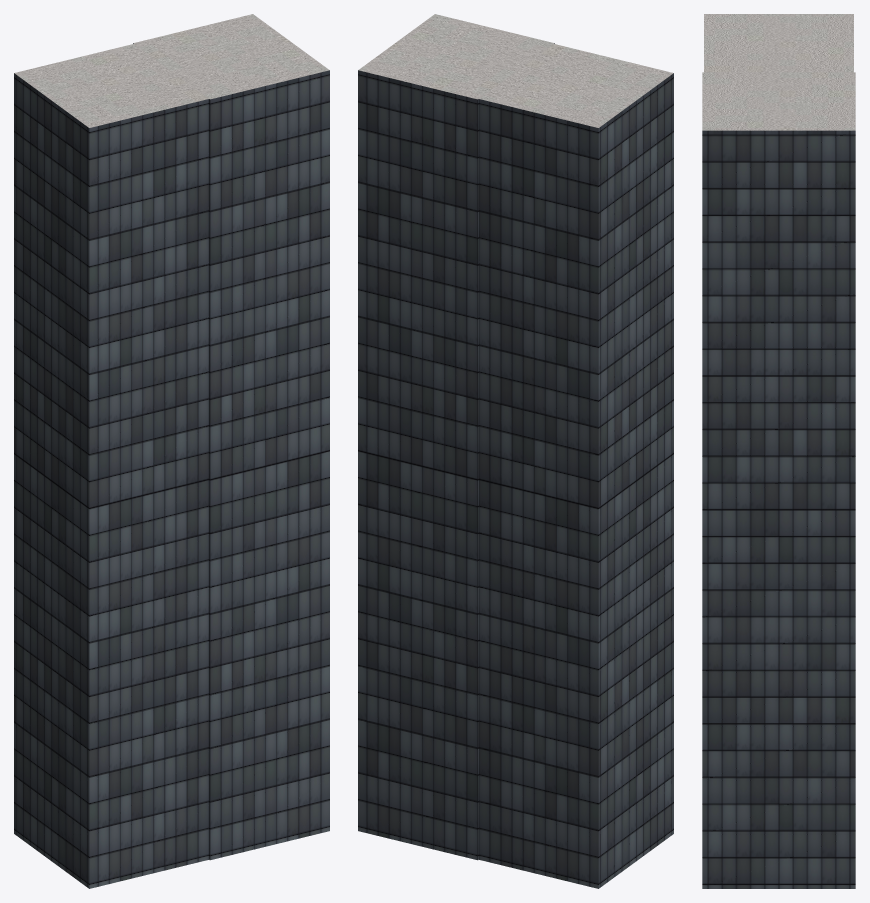
File: Building3.fbx
3 renders of one model, left to right at view 1: azimuth 30°, elevation 25°; view 2: azimuth 150°, elevation 25°; view 3: azimuth 270°, elevation 25°, orthographic.
Parts seen in each view (by area): view 1: building_009.002; view 2: building_009.002; view 3: building_009.002.
Boxes of the visible parts, x1,y1,x2,y2 form: building_009.002: (14,14,329,888); building_009.002: (358,14,673,888); building_009.002: (702,14,855,888).
Size of the model in its own units: 1800 by 5460 by 1000.
Materials: 2 (2 with a texture image).
